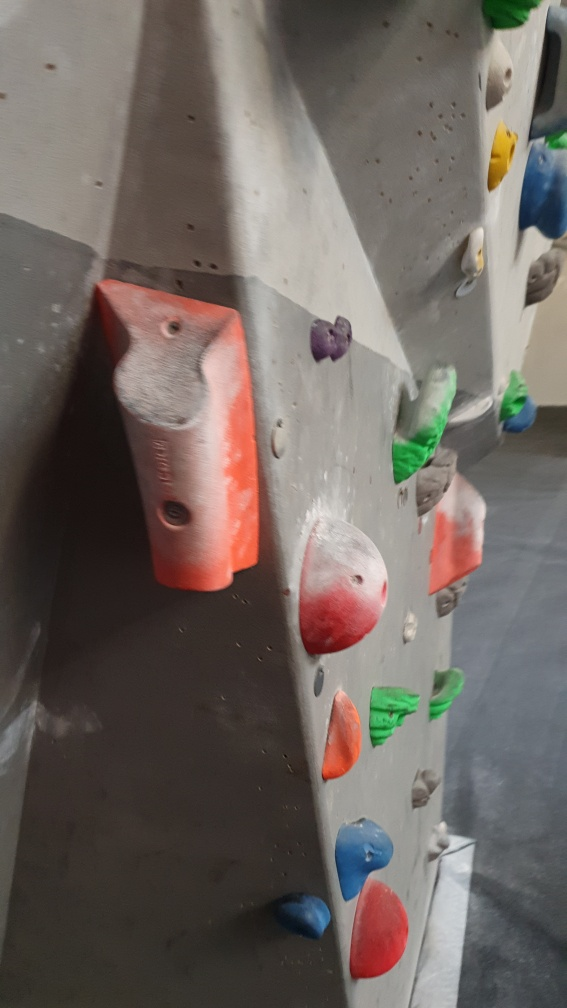Hand Start: (269, 414, 289, 460), (310, 666, 327, 699)
Jug: (390, 365, 460, 478), (365, 682, 422, 746), (428, 669, 466, 723)
Pinch: (96, 276, 261, 596)
Sloper: (296, 513, 397, 654), (342, 873, 412, 982)
